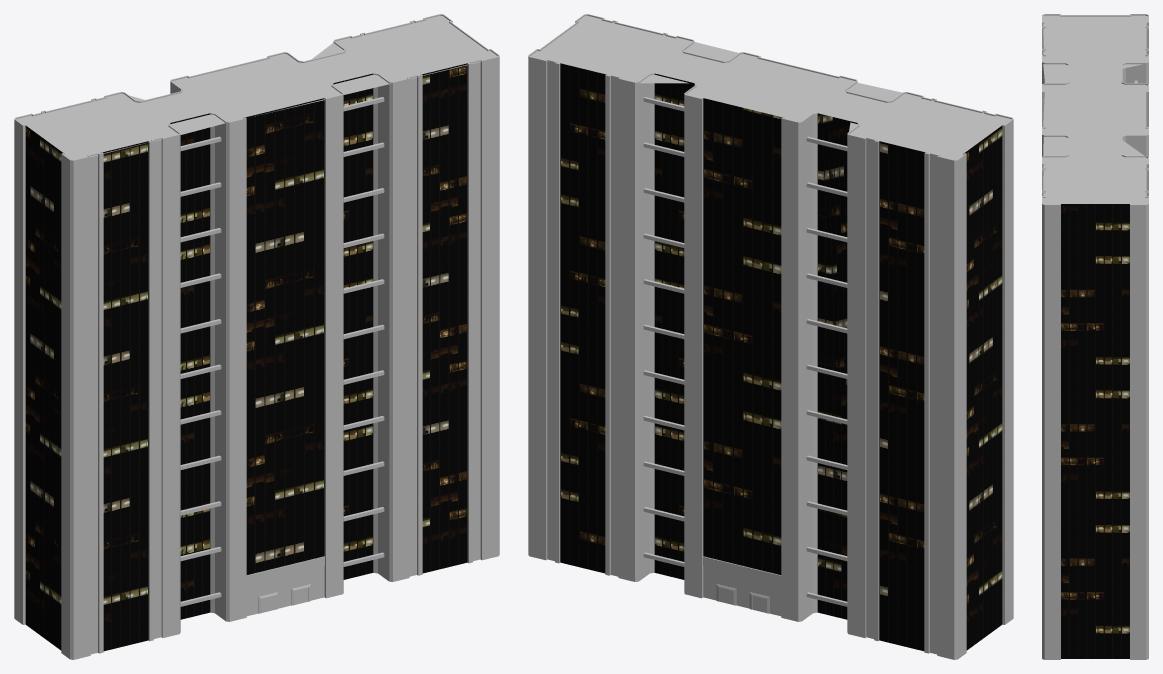
The picture shows the model from 3 angles, left to right: view 1: azimuth 30°, elevation 25°; view 2: azimuth 150°, elevation 25°; view 3: azimuth 270°, elevation 25°; orthographic projection. The views are drawn at different scales.
Visible parts, largest first — view 1: BC-078; view 2: BC-078; view 3: BC-078.
Part boxes in pixels (bbox=[...]): BC-078: bbox=[14, 14, 499, 659]; BC-078: bbox=[528, 14, 1013, 659]; BC-078: bbox=[1042, 14, 1148, 659].
Size of what is drawn, in the model's own units: 78.96 by 87.68 by 18.67.
